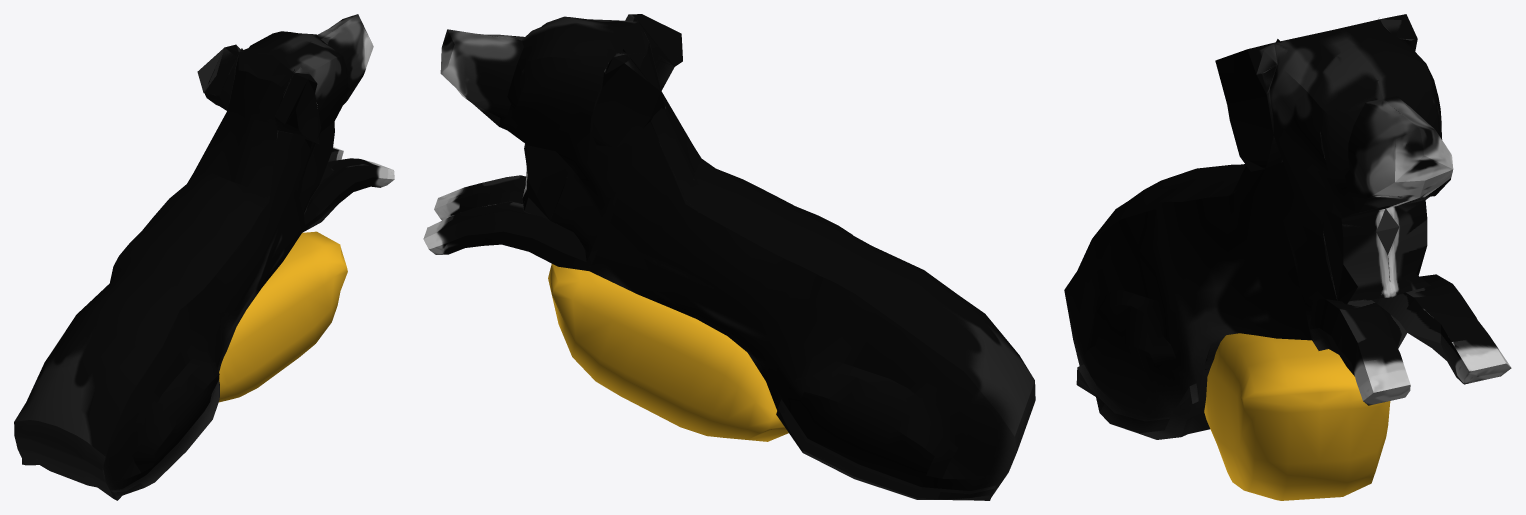
Rendered from ellienolabel.glb.
3 views of the same model, side by side, from view 1: azimuth 30°, elevation 25°; view 2: azimuth 150°, elevation 25°; view 3: azimuth 270°, elevation 25° (orthographic). The views are drawn at different scales.
Visible parts, largest first — view 1: Plane.017; view 2: Plane.017; view 3: Plane.017.
Part boxes in pixels (x1=…): Plane.017: x1=14, y1=14, x2=394, y2=500; Plane.017: x1=423, y1=14, x2=1035, y2=500; Plane.017: x1=1064, y1=14, x2=1511, y2=500.
Size of the model in its own units: 4.42 by 3.42 by 2.49.
Materials: 2 (1 with a texture image).
